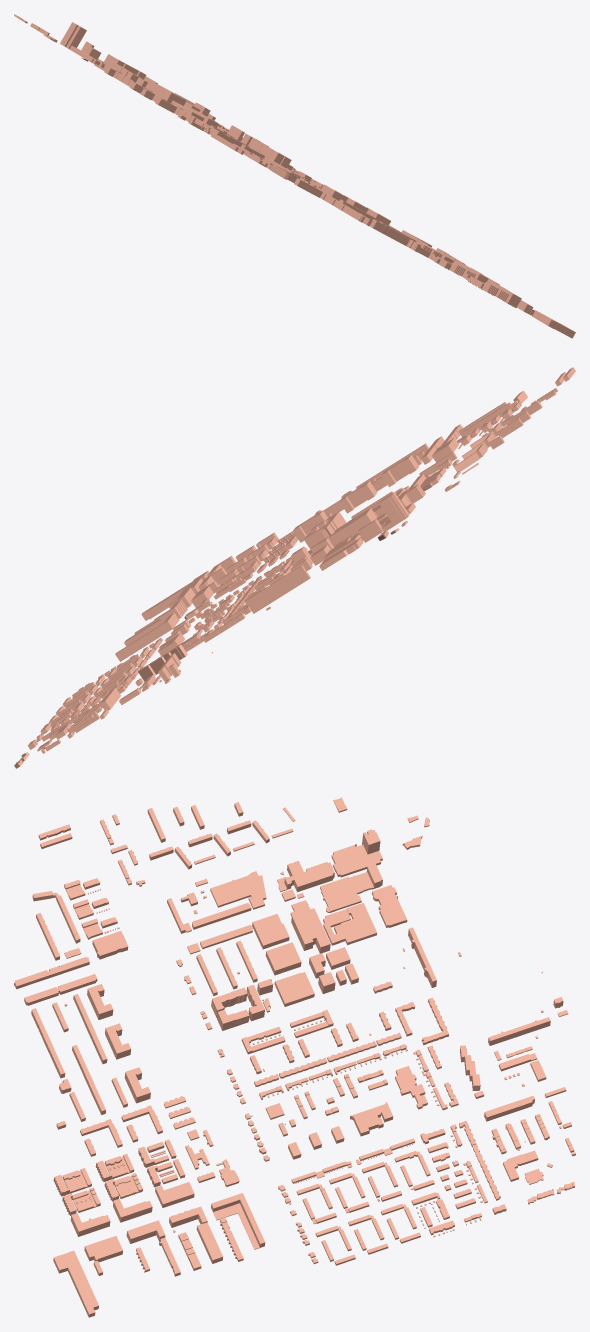
3 renders of one model, top to bottom at view 1: azimuth 30°, elevation 25°; view 2: azimuth 150°, elevation 25°; view 3: azimuth 270°, elevation 25°, orthographic. The views are drawn at different scales.
Size of the model in its own units: 1115 by 819 by 1300.
